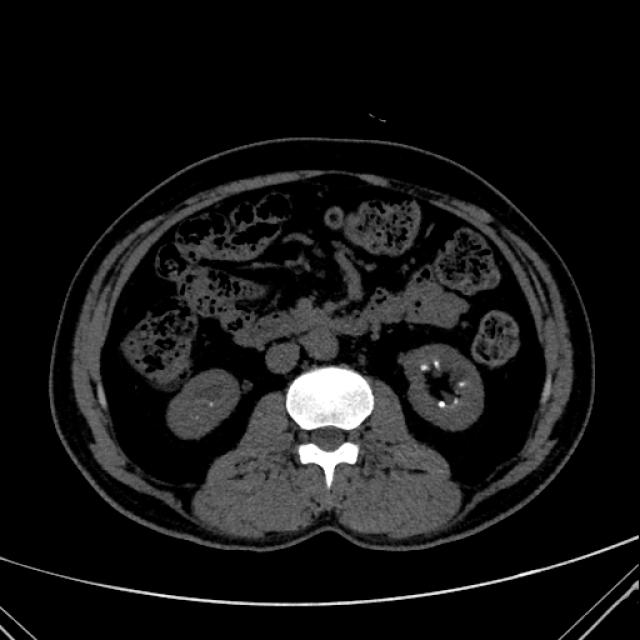kidneystone: (416, 355, 451, 372), (451, 380, 466, 388), (438, 400, 446, 408)
